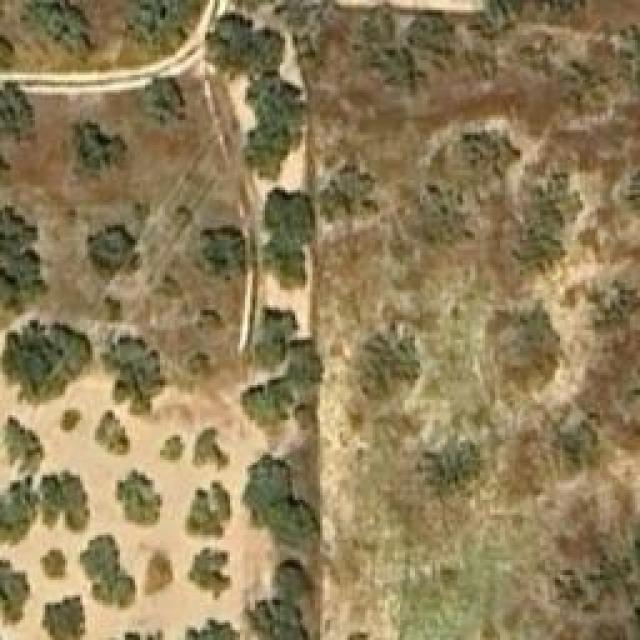Tree: (245, 560, 343, 640), (3, 320, 93, 405), (0, 205, 50, 315), (100, 335, 165, 415), (75, 532, 138, 610), (260, 192, 313, 280), (128, 0, 208, 58), (208, 18, 278, 83), (355, 335, 420, 400), (20, 0, 95, 55), (32, 470, 90, 535), (85, 223, 143, 283), (0, 415, 48, 480), (185, 480, 233, 540), (115, 468, 163, 528), (243, 120, 294, 176), (422, 447, 480, 495), (73, 123, 128, 173), (0, 480, 38, 550), (408, 13, 461, 63), (320, 170, 373, 220), (240, 380, 295, 428), (248, 457, 293, 515), (457, 125, 515, 170), (185, 548, 233, 601), (0, 555, 32, 632), (203, 223, 246, 278), (0, 83, 38, 143), (252, 310, 290, 365), (40, 597, 87, 640), (145, 75, 188, 120), (93, 410, 133, 458), (192, 428, 230, 473), (479, 0, 532, 32), (172, 617, 237, 640), (620, 170, 640, 233), (145, 553, 173, 596), (155, 435, 188, 465), (38, 548, 68, 581), (0, 32, 18, 70), (62, 410, 80, 430)
